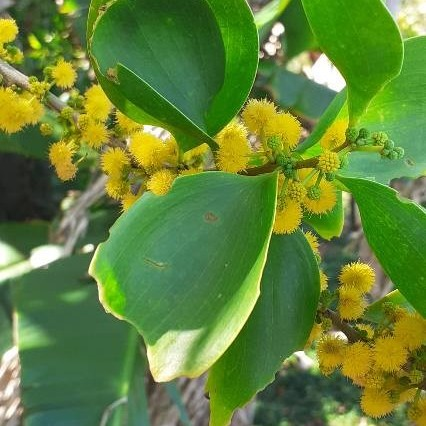obstacle: (96, 149, 325, 396)
